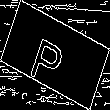P_NE: (34, 25, 76, 85)
